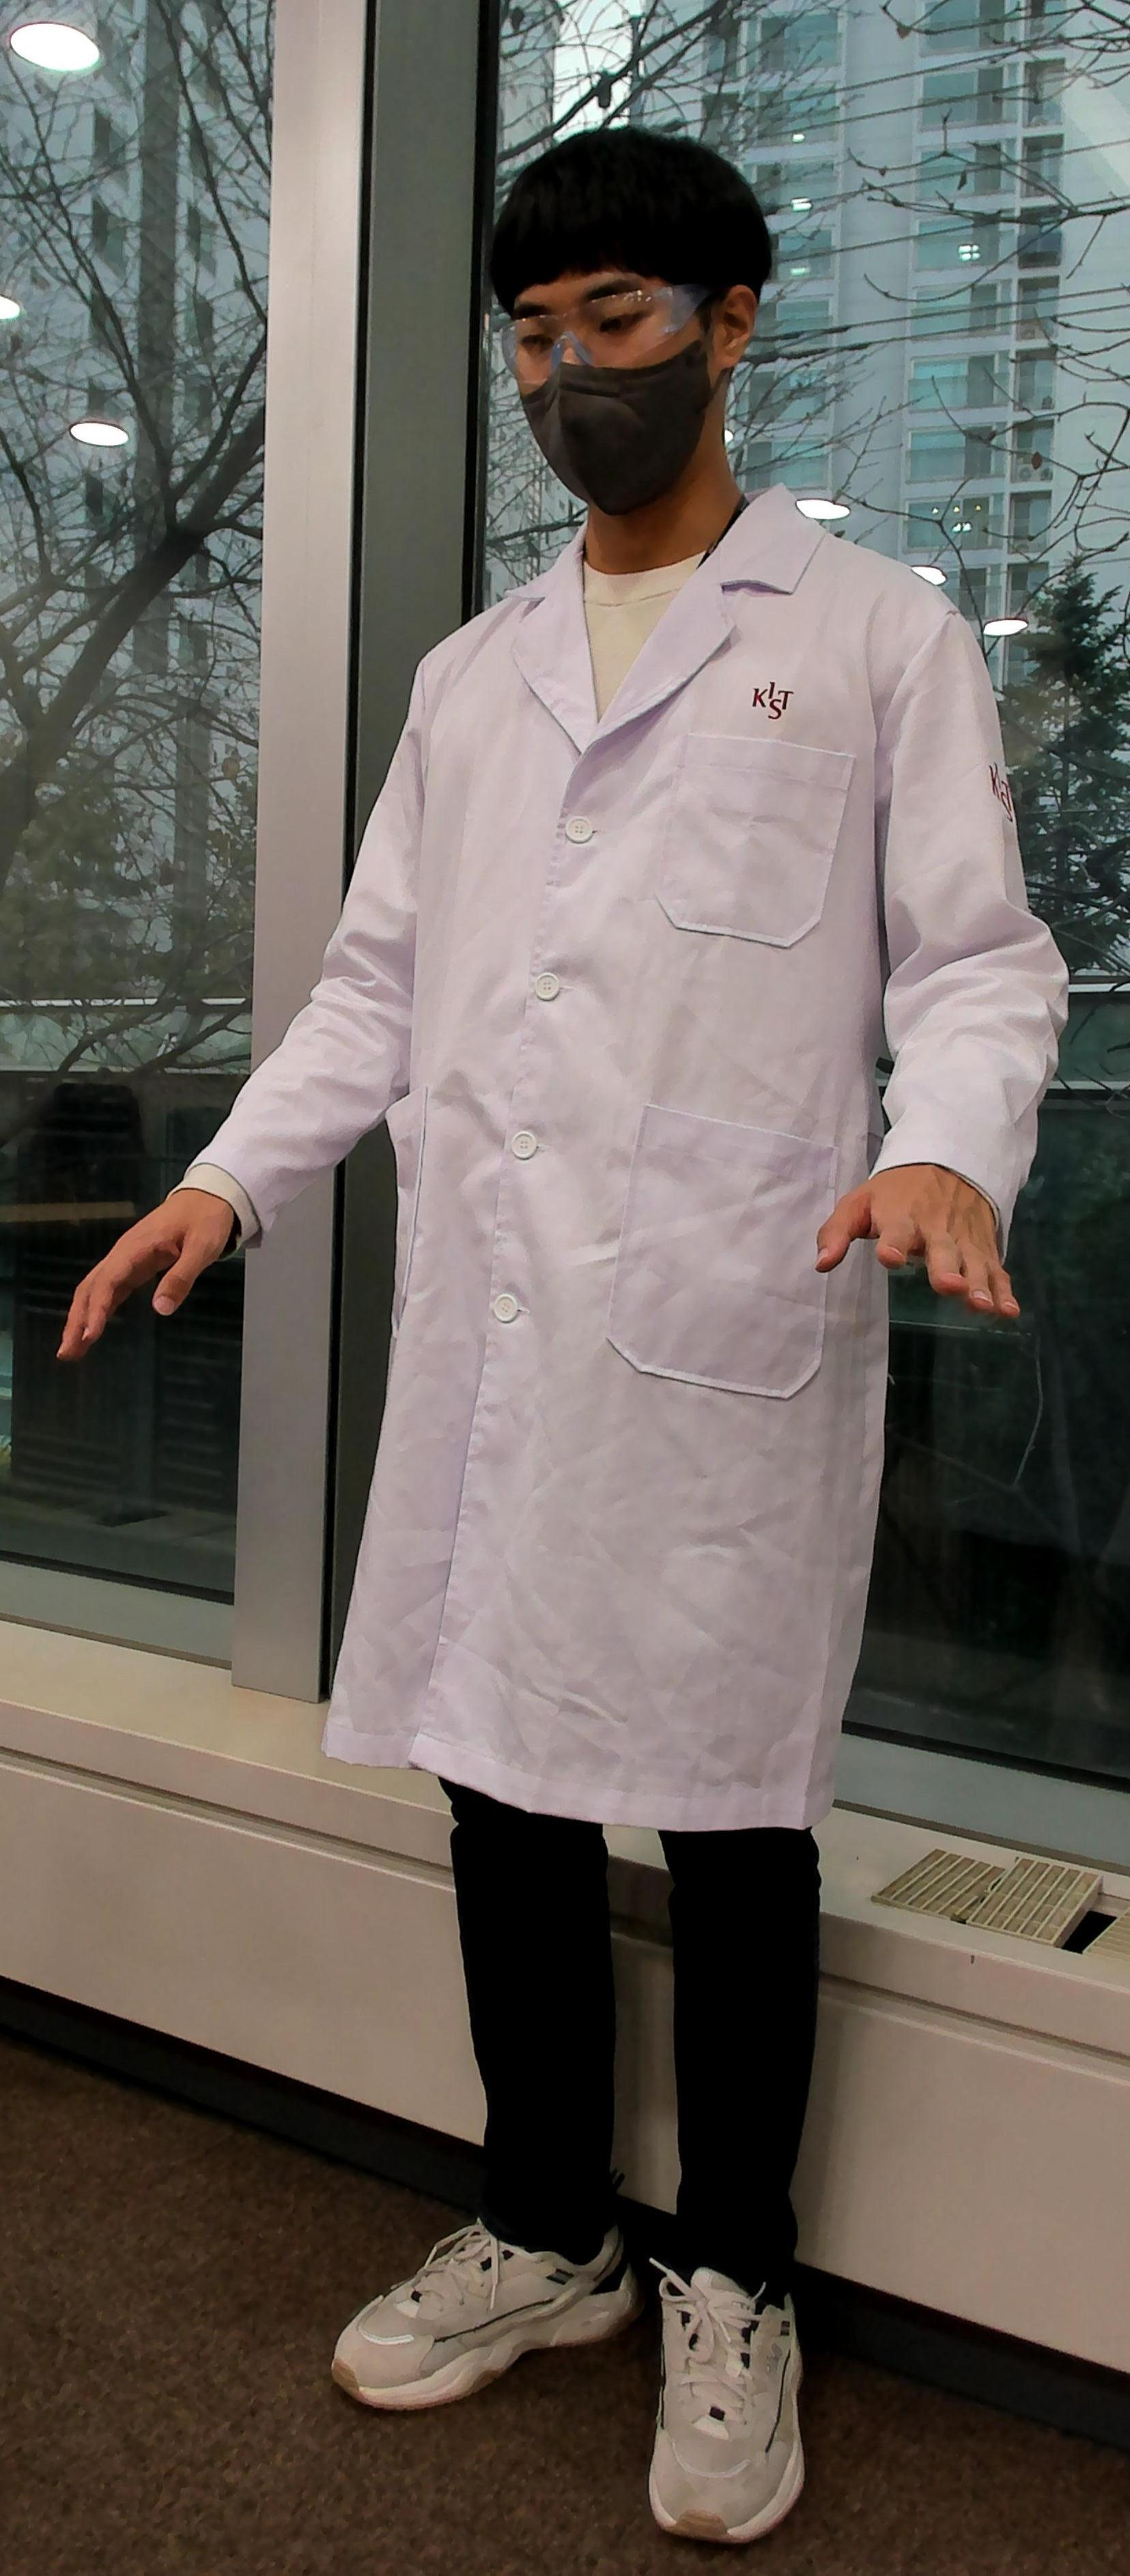lab_coat: (296, 575, 892, 1806)
